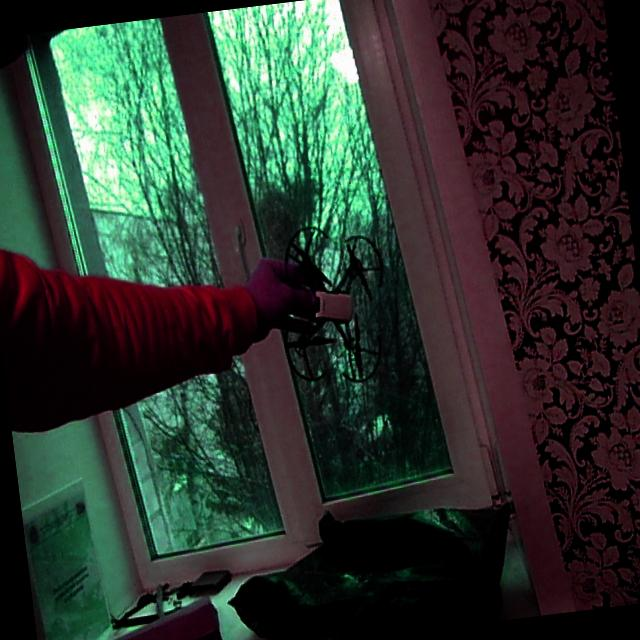drone: (266, 202, 397, 404)
